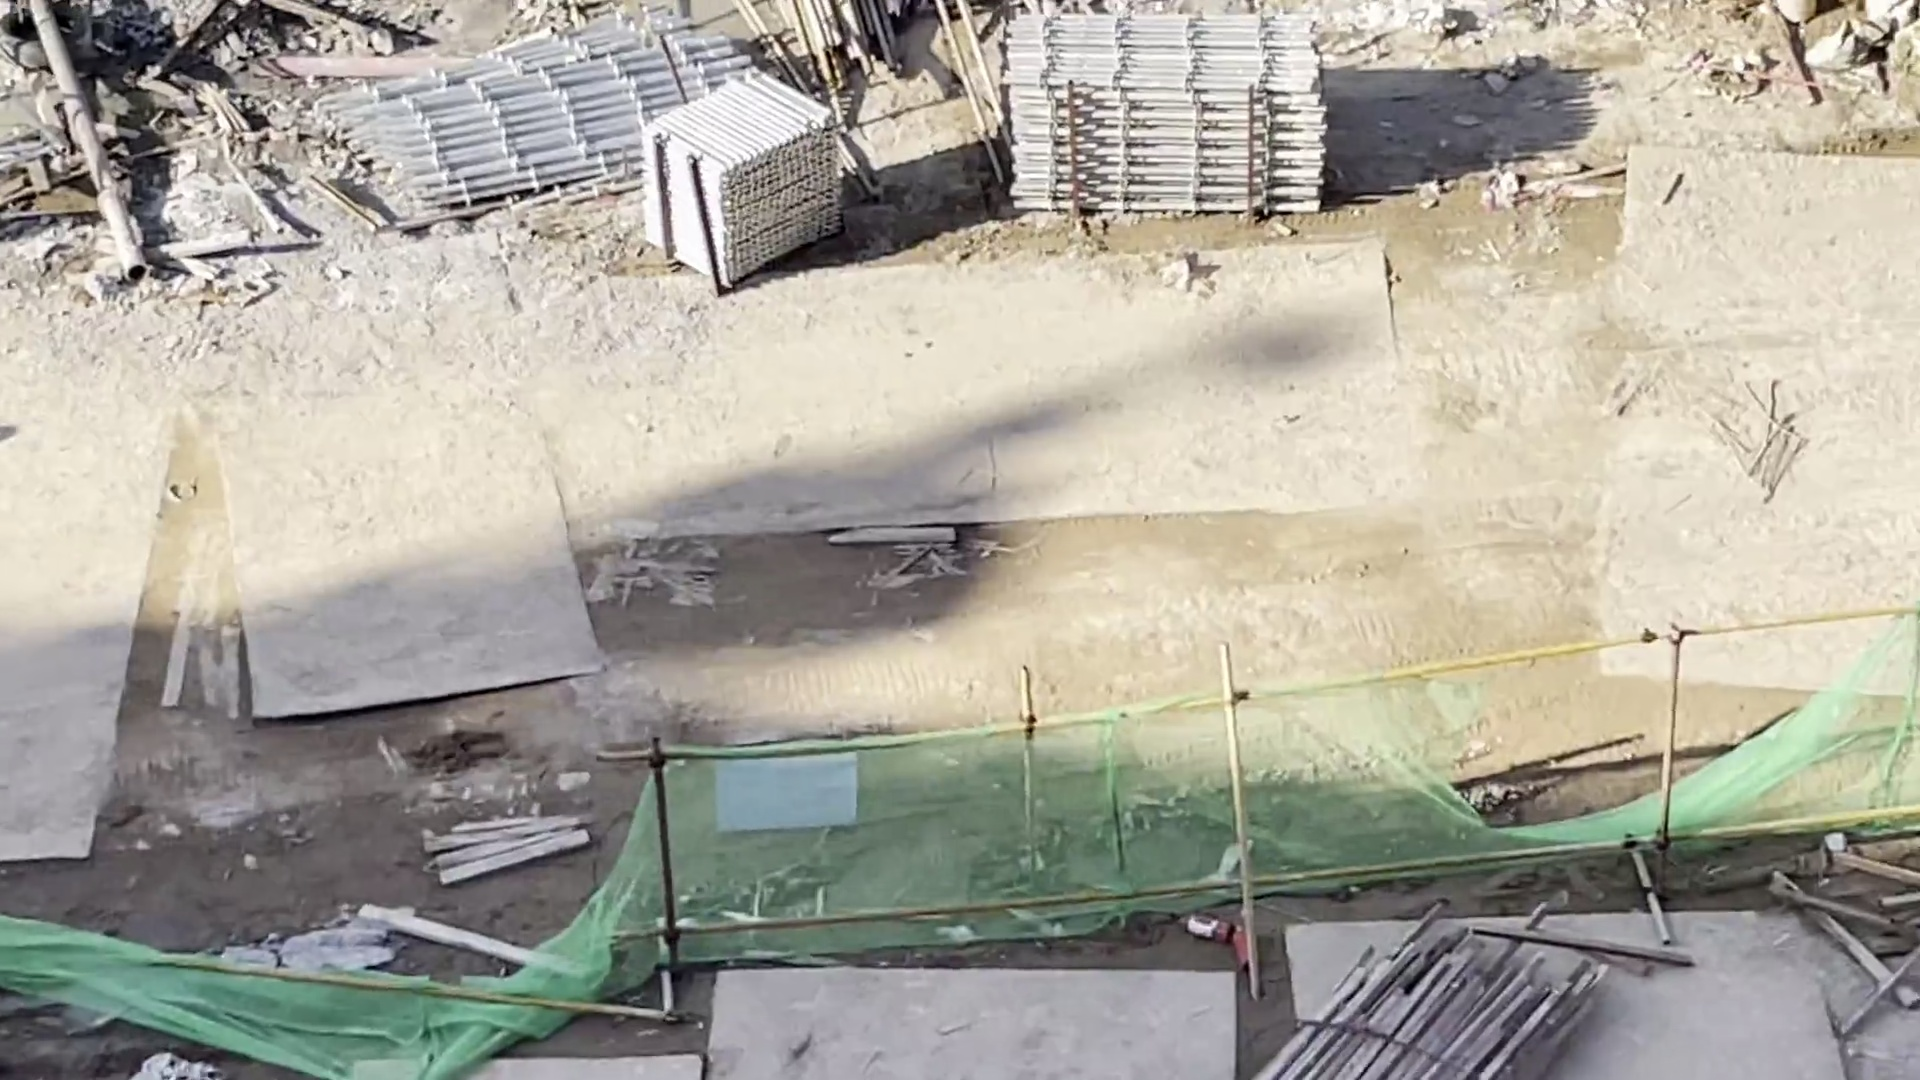scaffold: (328, 36, 785, 204), (1013, 42, 1294, 208), (663, 76, 843, 291)
